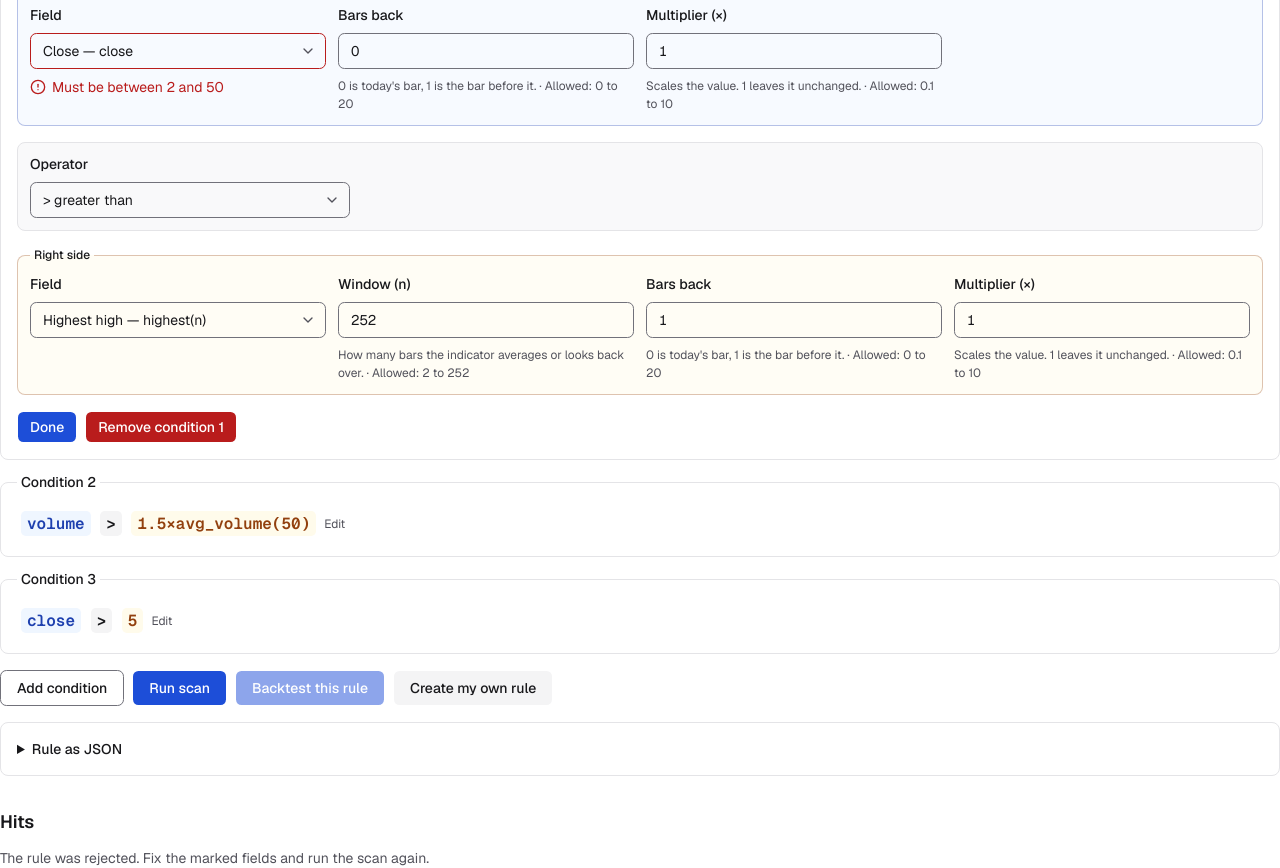
Scenario: ScanWorkspace 422 after the rows changed › keeps the name error and drops the row error when a condition is added
(page scrolled)
Check: the text "Must be between 2 and 50" is shown, box [52, 77, 224, 97]
Click the button "Add condition" at (62, 688), box [0, 670, 124, 706]
(page scrolled)
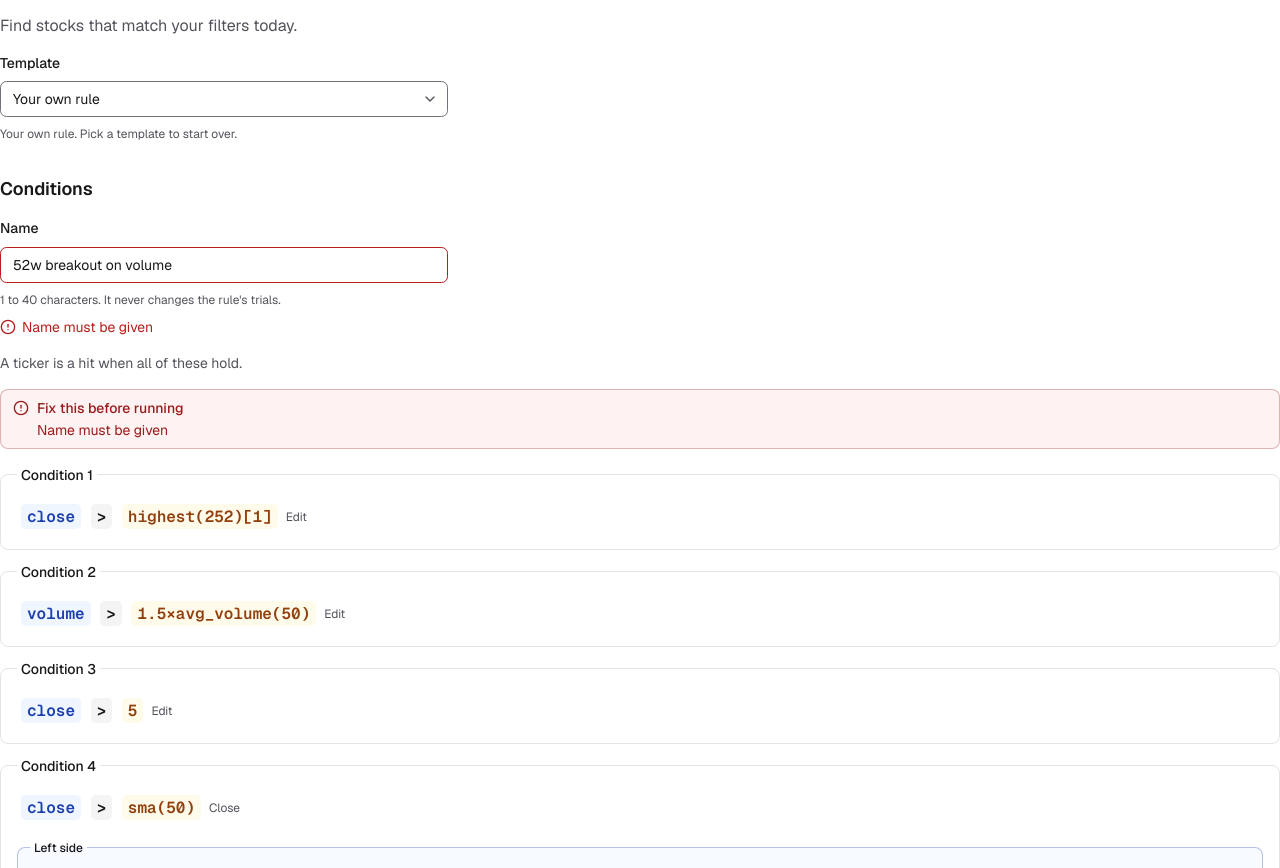
Check: the message shows "Name must be given", box [37, 420, 168, 438]
Check: the text "Must be between 2 and 50" is gone
